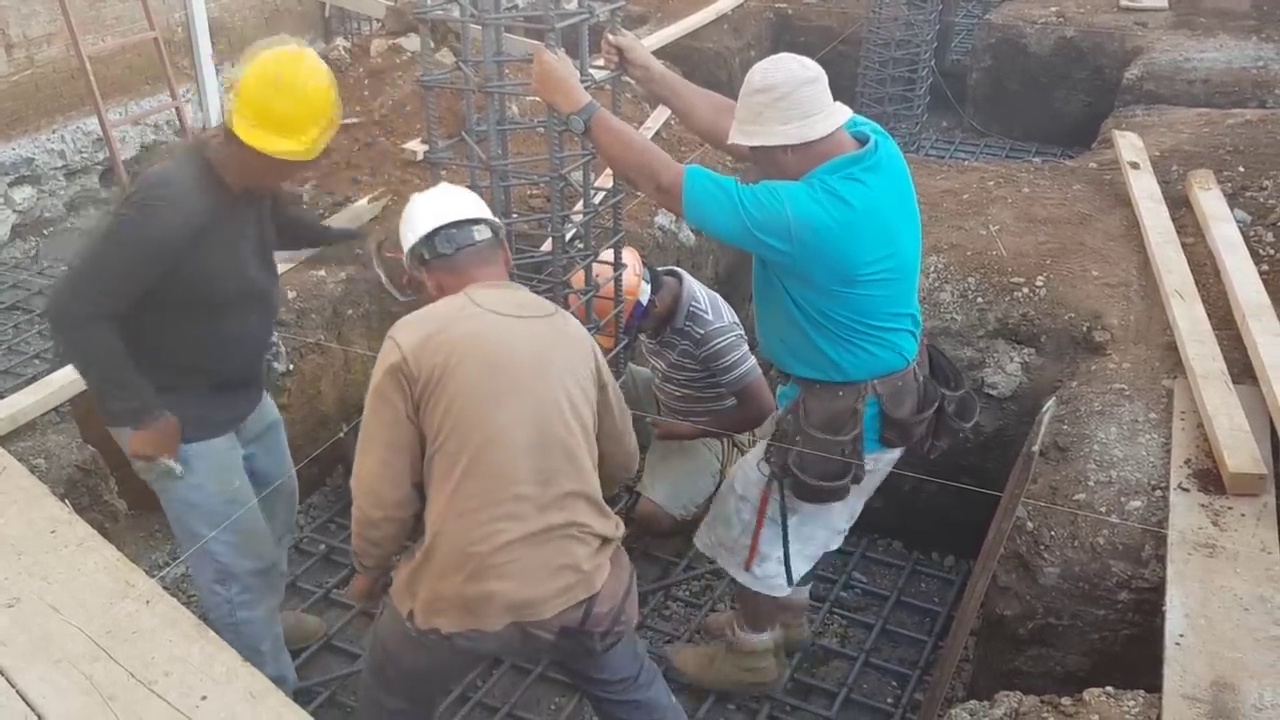helmet: (228, 40, 339, 165), (393, 179, 506, 272), (568, 236, 648, 356), (570, 239, 645, 354)
helmet-off: (723, 51, 872, 186)
helmet-on: (205, 39, 343, 194), (390, 173, 524, 312), (567, 239, 686, 358)
person: (531, 18, 928, 676), (42, 23, 365, 680), (327, 178, 646, 706), (574, 239, 775, 545)
